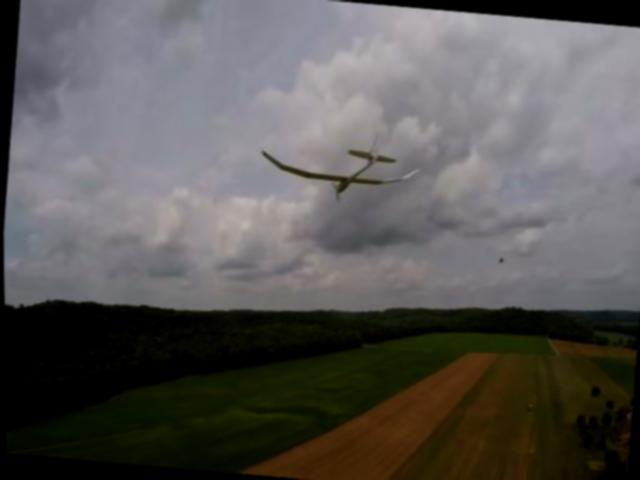uav: (257, 128, 424, 202)
